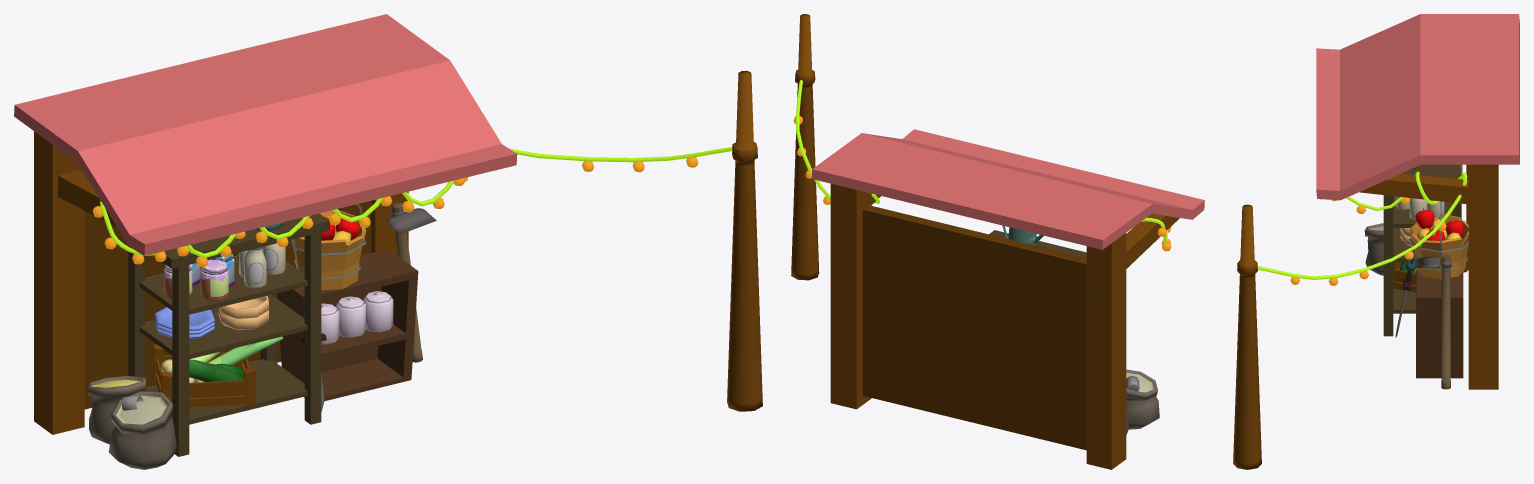
File: KitchenSet1-optimized.glb
The picture shows the model from 3 angles, left to right: view 1: azimuth 30°, elevation 25°; view 2: azimuth 150°, elevation 25°; view 3: azimuth 270°, elevation 25°; orthographic projection. The views are drawn at different scales.
Visible parts, largest first — view 1: Cylinder.003, Shelf1, Little Shelf, Flour, Box, Cylinder.017, Flour2, Cylinder.026, Cylinder.025, Cylinder.021, Cylinder.034, Milk (+2 smaller); view 2: Cylinder.003, Flour, WaterCan; view 3: Cylinder.003, Little Shelf, Shelf1, Cylinder.017, Cylinder.026, Flour, Box, Cube.007.
Part boxes in pixels (bbox=[...]): Cylinder.003: bbox=[14, 14, 762, 434]; Shelf1: bbox=[128, 213, 329, 456]; Little Shelf: bbox=[277, 249, 418, 401]; Flour: bbox=[108, 391, 176, 469]; Box: bbox=[153, 344, 255, 407]; Cylinder.017: bbox=[289, 204, 366, 290]; Flour2: bbox=[87, 376, 146, 444]; Cylinder.026: bbox=[387, 202, 436, 362]; Cylinder.025: bbox=[200, 259, 228, 301]; Cylinder.021: bbox=[363, 291, 393, 332]; Cylinder.034: bbox=[335, 296, 365, 337]; Milk: bbox=[244, 247, 266, 288]; Cylinder.003: bbox=[791, 14, 1204, 469]; Flour: bbox=[1126, 369, 1159, 429]; WaterCan: bbox=[1002, 225, 1043, 246]; Cylinder.003: bbox=[1233, 14, 1519, 469]; Little Shelf: bbox=[1416, 269, 1463, 378]; Shelf1: bbox=[1383, 164, 1462, 336]; Cylinder.017: bbox=[1409, 201, 1468, 279]; Cylinder.026: bbox=[1414, 255, 1451, 389]; Flour: bbox=[1364, 223, 1383, 275]; Box: bbox=[1393, 246, 1468, 292]; Cube.007: bbox=[1395, 251, 1415, 337].
Size of the model in its own units: 35.6 by 19.68 by 19.83.
6 materials, 6 textured.
